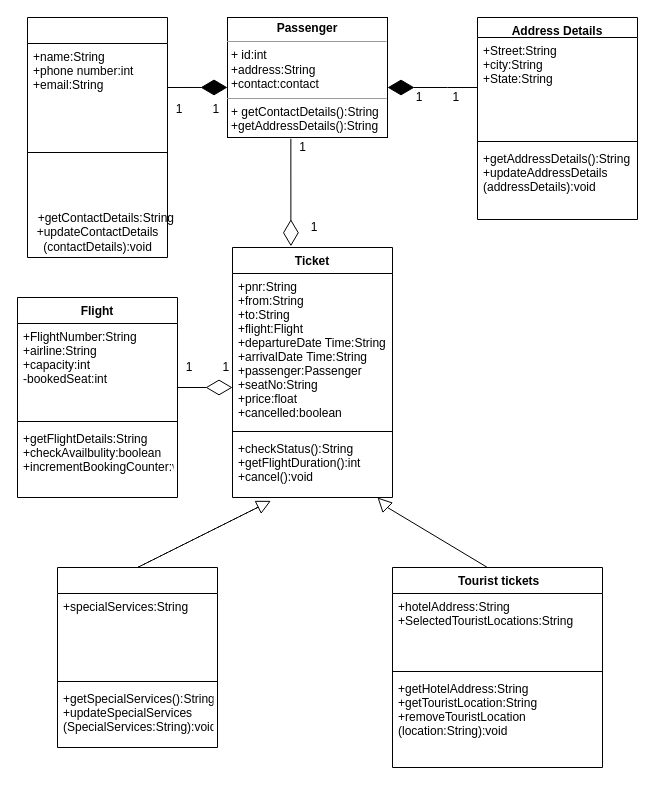
Some shapes in this 655 by 788 pixel diagram are drawn without their labels. Here are the shapes that lost their labels. From the top down, the box of each, then its label:
(26, 16, 168, 258): ContactDeatils
(56, 566, 218, 748): Regular Ticket
